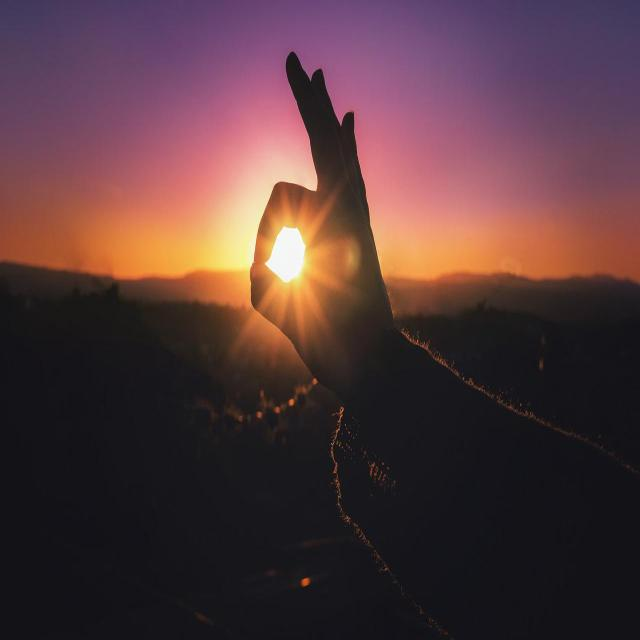other: (254, 201, 317, 299)
